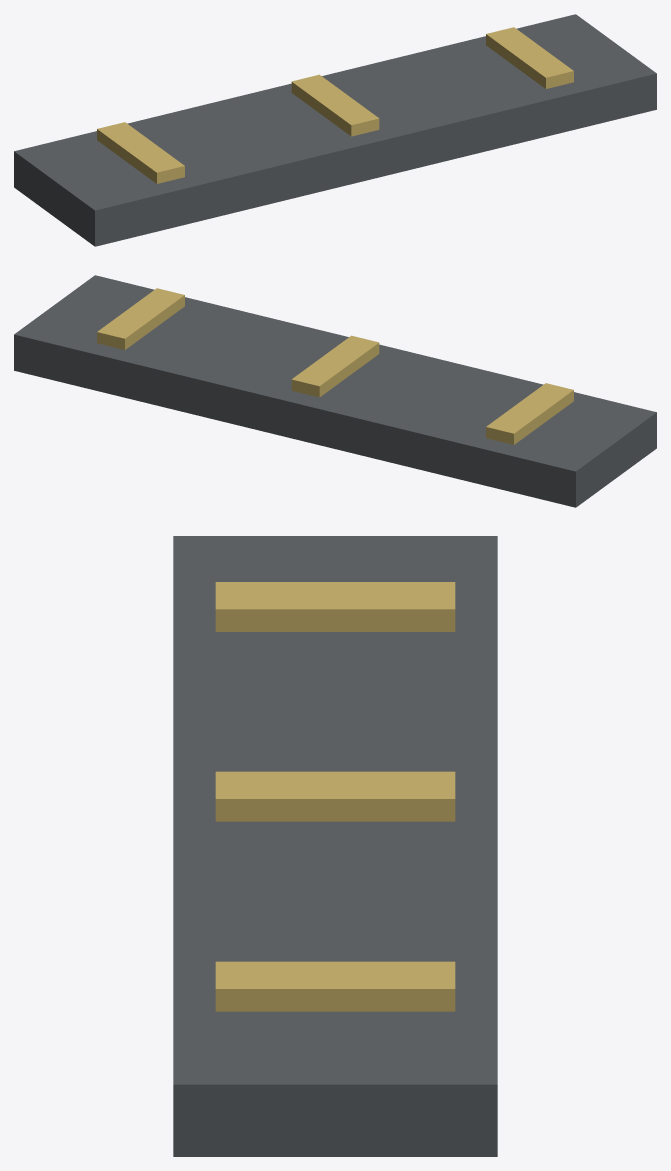
File: cable_guard_lod0.glb
3 views of the same model, one above another, from view 1: azimuth 30°, elevation 25°; view 2: azimuth 150°, elevation 25°; view 3: azimuth 270°, elevation 25° (orthographic). The views are drawn at different scales.
Parts seen in each view (by area): view 1: part_0, part_2, part_1, part_3; view 2: part_0, part_2, part_1, part_3; view 3: part_0, part_2, part_3, part_1.
Boxes of the visible parts, x1,y1,x2,y2 form: part_0: (14, 14, 656, 246); part_2: (291, 74, 379, 136); part_1: (97, 122, 184, 183); part_3: (486, 27, 573, 88); part_0: (14, 275, 656, 507); part_2: (291, 335, 379, 397); part_1: (486, 383, 573, 444); part_3: (97, 288, 184, 349); part_0: (173, 536, 497, 1156); part_2: (215, 771, 455, 821); part_3: (215, 961, 455, 1011); part_1: (215, 582, 455, 631).
Size of the model in its own units: 2.6 by 0.215 by 0.65.
